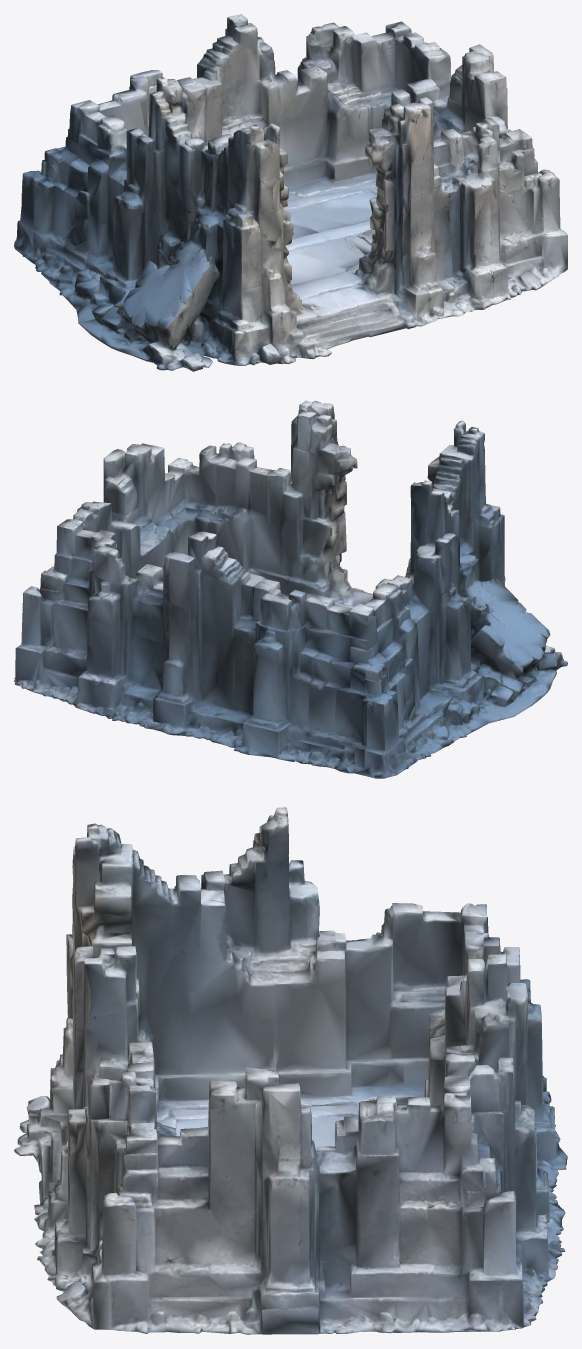
File: ruina_piedra.glb
3 renders of one model, top to bottom at view 1: azimuth 30°, elevation 25°; view 2: azimuth 150°, elevation 25°; view 3: azimuth 270°, elevation 25°, orthographic. The views are drawn at different scales.
Visible parts, largest first — view 1: tripo_node_4ca941bc-310f-476e-a40e-abc036db1213; view 2: tripo_node_4ca941bc-310f-476e-a40e-abc036db1213; view 3: tripo_node_4ca941bc-310f-476e-a40e-abc036db1213.
Part boxes in pixels (x1=…): tripo_node_4ca941bc-310f-476e-a40e-abc036db1213: x1=14, y1=14, x2=567, y2=371; tripo_node_4ca941bc-310f-476e-a40e-abc036db1213: x1=14, y1=400, x2=567, y2=778; tripo_node_4ca941bc-310f-476e-a40e-abc036db1213: x1=14, y1=807, x2=567, y2=1334.
Bounding box in the file's own units: 0.9994 × 0.489 × 0.8199.
1 material, 1 textured.
